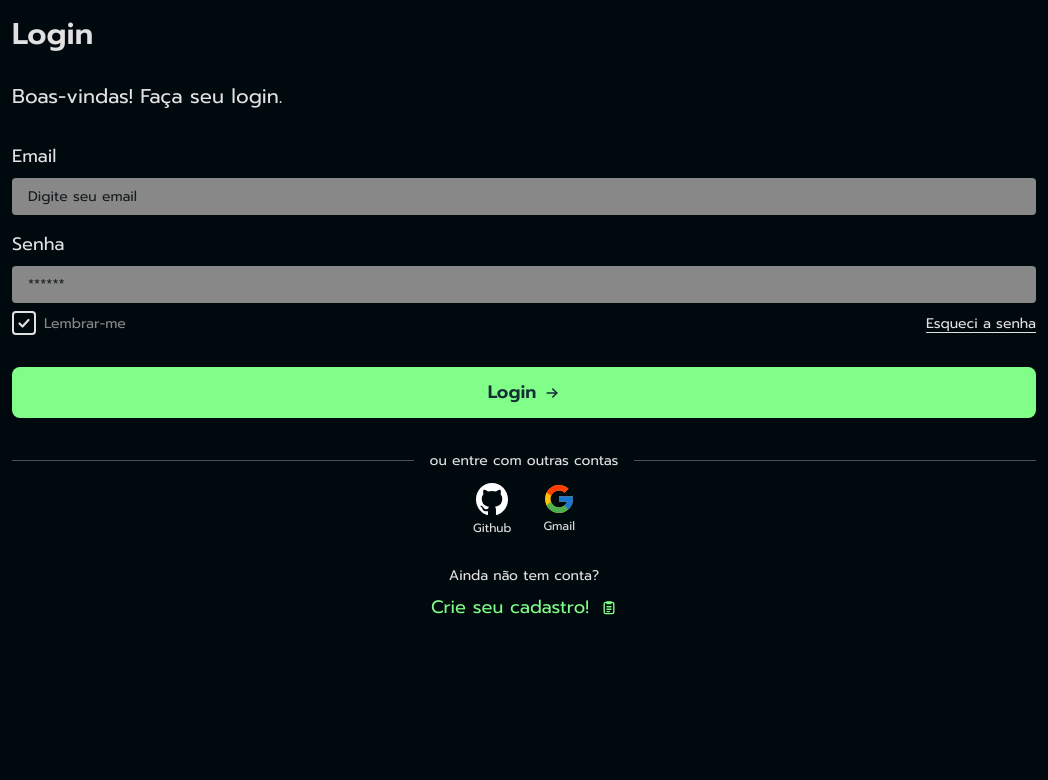
Test case: LoginForm › shows validation errors and does not submit when fields are empty or invalid
The width and height of the screenshot is (1048, 780).
Click the button "Login" at (524, 392), box x1=12 y1=367 x2=1036 y2=418
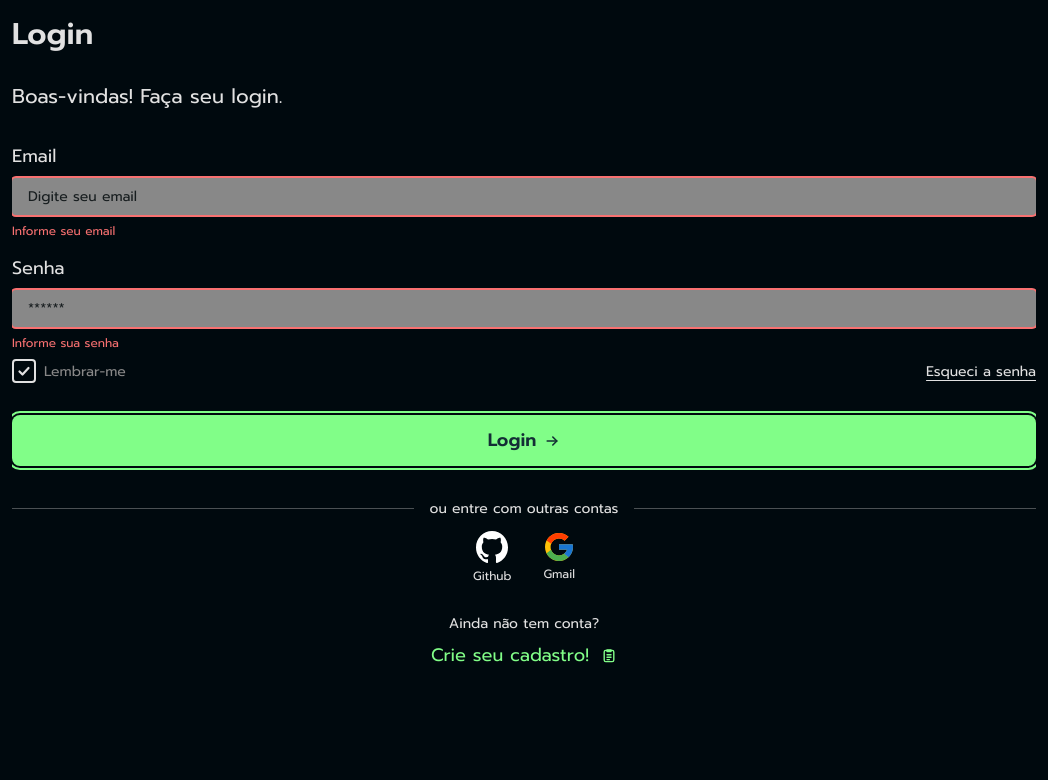
Check: the text "Informe seu email" is shown, box x1=12 y1=222 x2=115 y2=240
Check: the text "Informe sua senha" is shown, box x1=12 y1=334 x2=119 y2=352
Type "email-invalido" into the field labelled "Email" at (524, 196), box x1=12 y1=178 x2=1036 y2=215
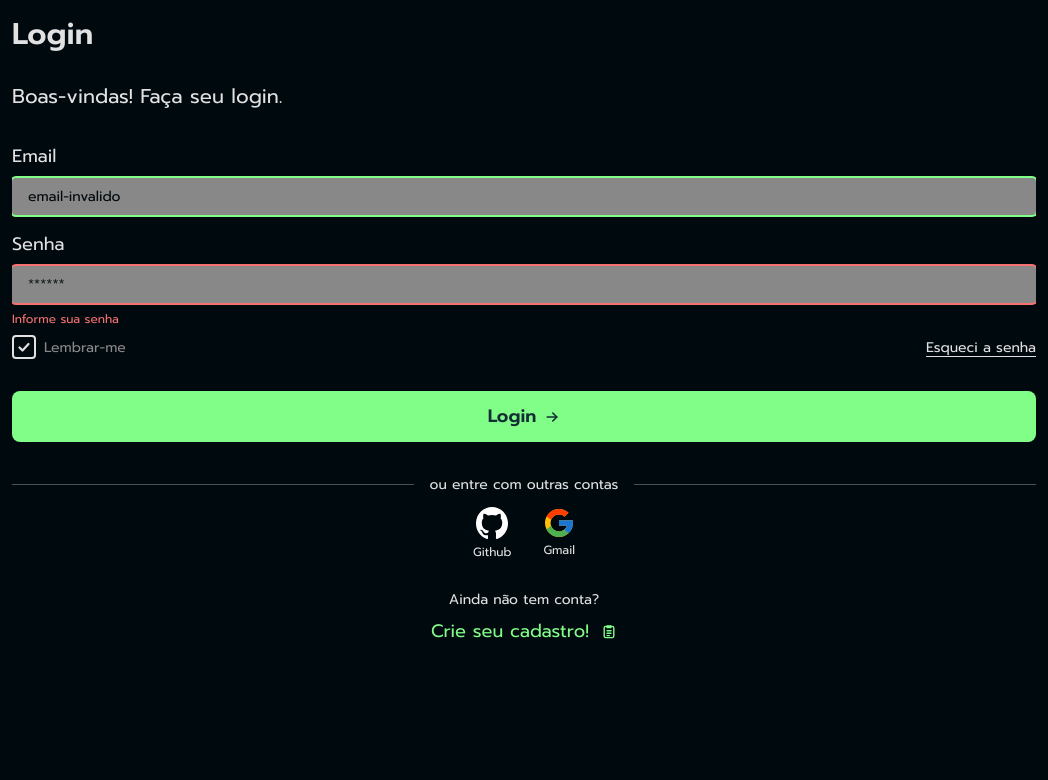
Click the button "Login" at (524, 416), box x1=12 y1=391 x2=1036 y2=442
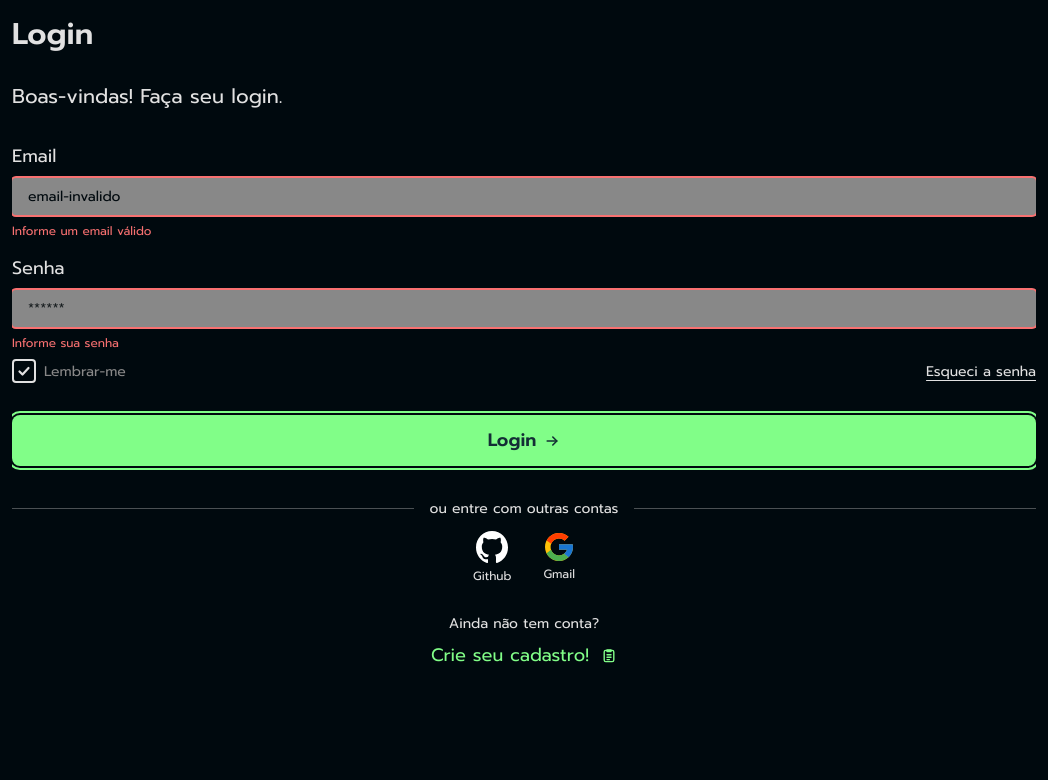
Check: the text "Informe um email válido" is shown, box x1=12 y1=222 x2=152 y2=240
